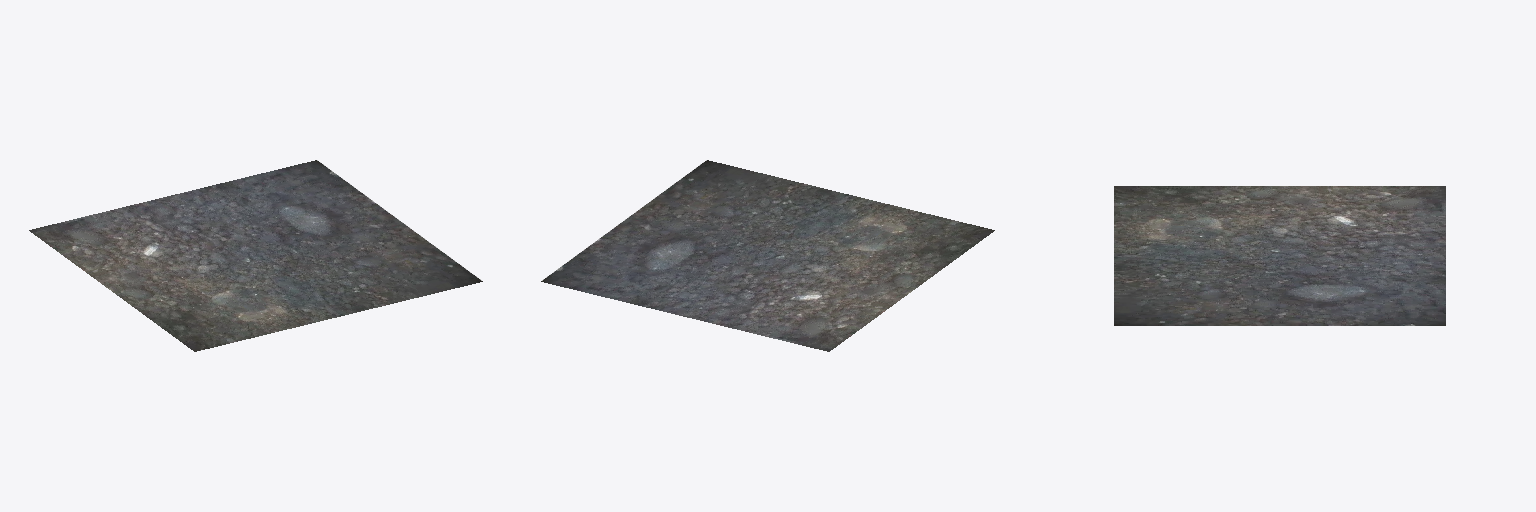
The picture shows the model from 3 angles: view 1: azimuth 30°, elevation 25°; view 2: azimuth 150°, elevation 25°; view 3: azimuth 270°, elevation 25°; orthographic projection.
Parts seen in each view (by area): view 1: Plane; view 2: Plane; view 3: Plane.
Boxes of the visible parts, box(x1,y1,x2,y2) form: Plane: box(29, 160, 482, 351); Plane: box(541, 160, 994, 351); Plane: box(1114, 186, 1445, 325).
Size of the model in its own units: 20.02 by 0 by 19.97.
Materials: 1 (1 with a texture image).